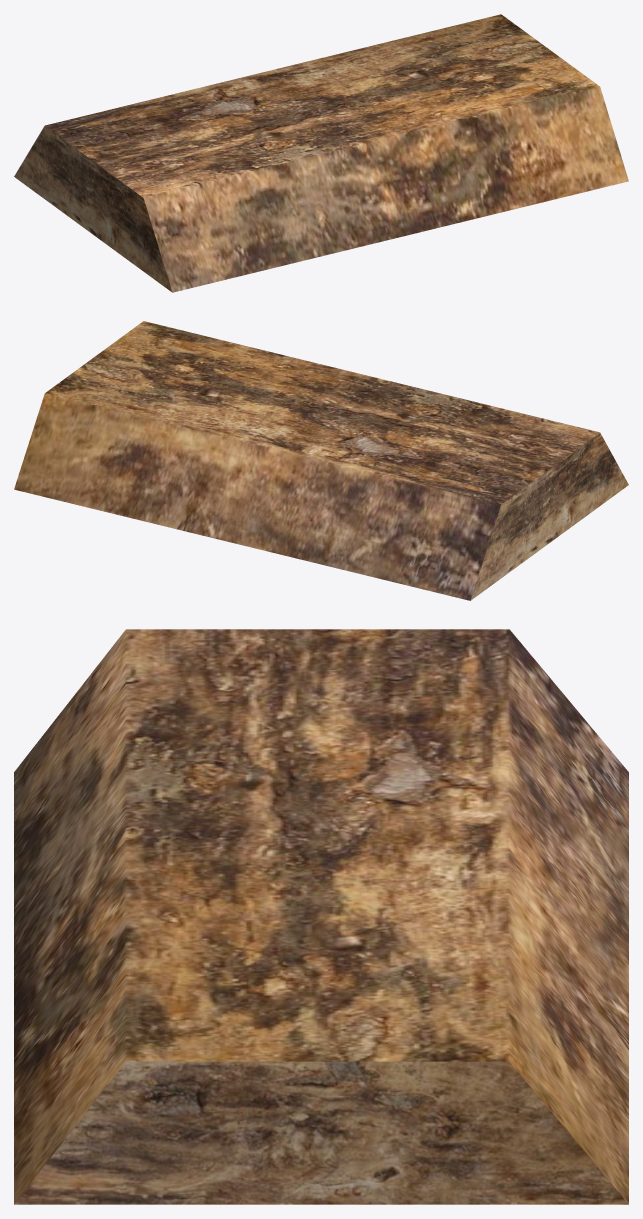
The picture shows the model from 3 angles, top to bottom: view 1: azimuth 30°, elevation 25°; view 2: azimuth 150°, elevation 25°; view 3: azimuth 270°, elevation 25°; orthographic projection. The views are drawn at different scales.
Visible parts, largest first — view 1: polySurface121; view 2: polySurface121; view 3: polySurface121.
Part boxes in pixels (<box>): polySurface121: <box>14,14,628,292</box>; polySurface121: <box>14,321,628,600</box>; polySurface121: <box>14,629,628,1204</box>.
Bounding box in the file's own units: 62.32 × 9.61 × 37.47.
